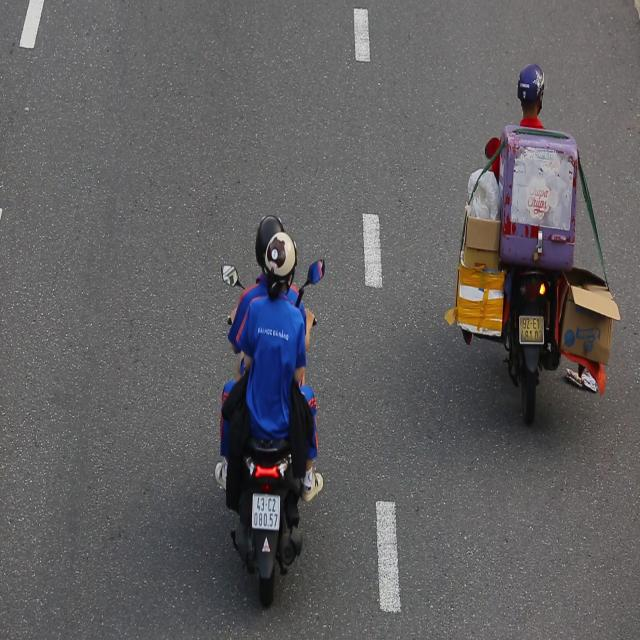motorbike: (457, 62, 623, 444), (216, 204, 329, 626)
